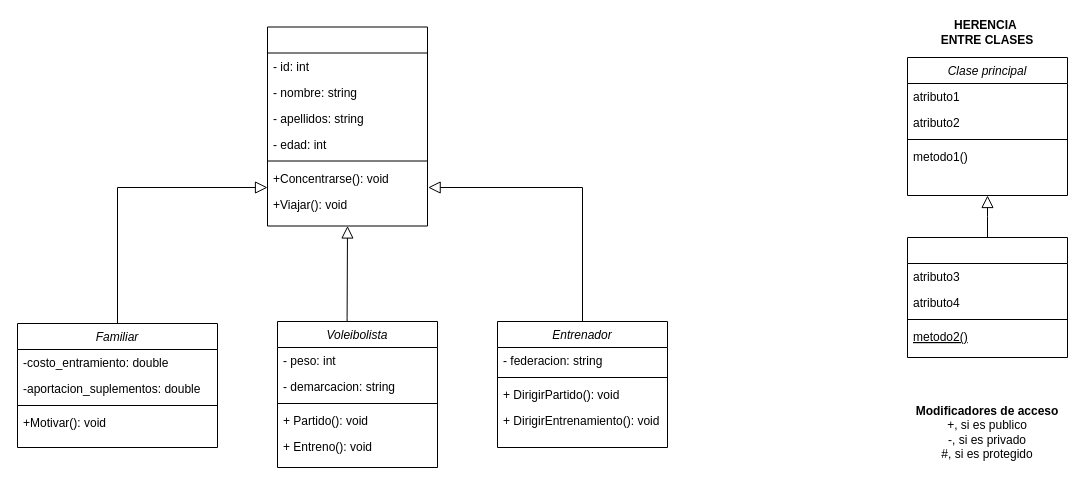
Some shapes in this 1085 by 485 pixel diagram are drawn without their labels. Each missing label, with the box of its shape:
SeleccionDeVoleibol: (266, 26, 428, 226)
Subclase: (906, 236, 1068, 358)
